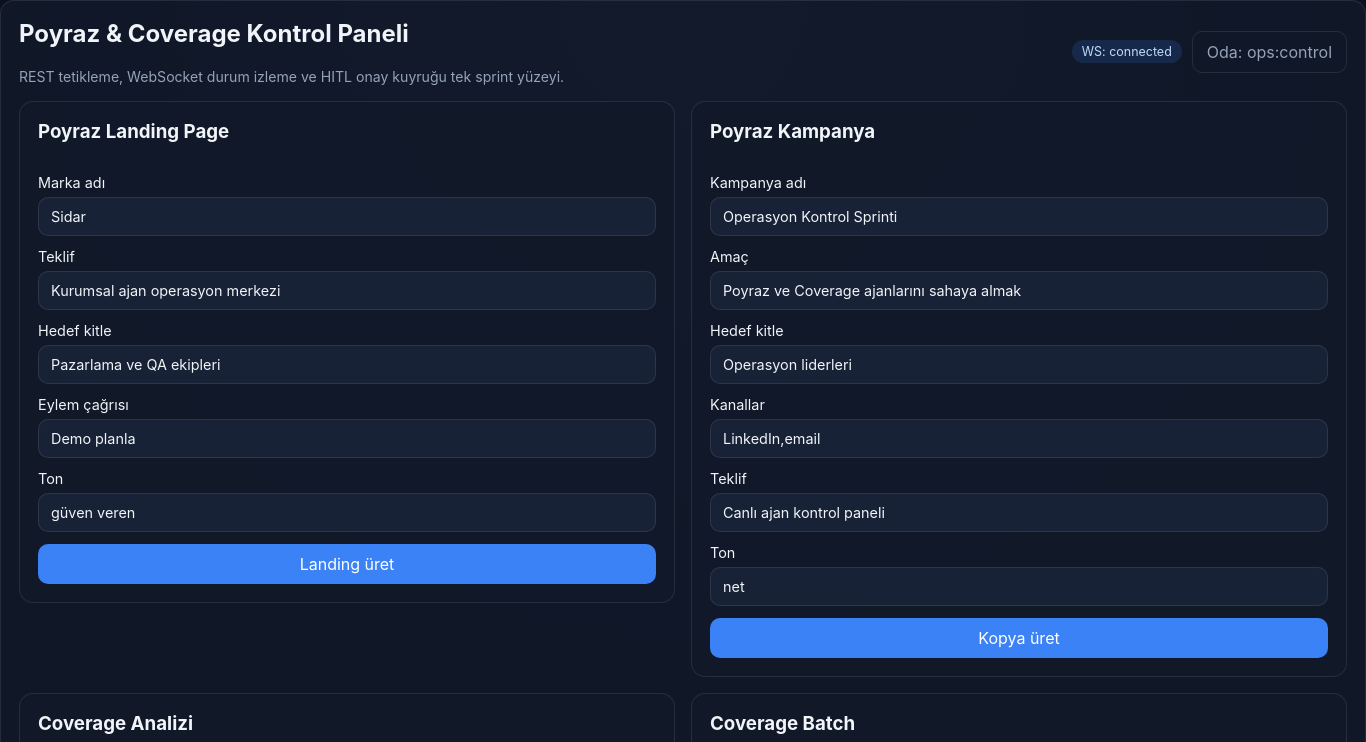
Test case: OperationsQaPanel — REST tetiklemeleri › REST hatasını banner olarak gösterir
Click the button "Landing üret": coordinates (347, 564) [38, 544, 656, 584]
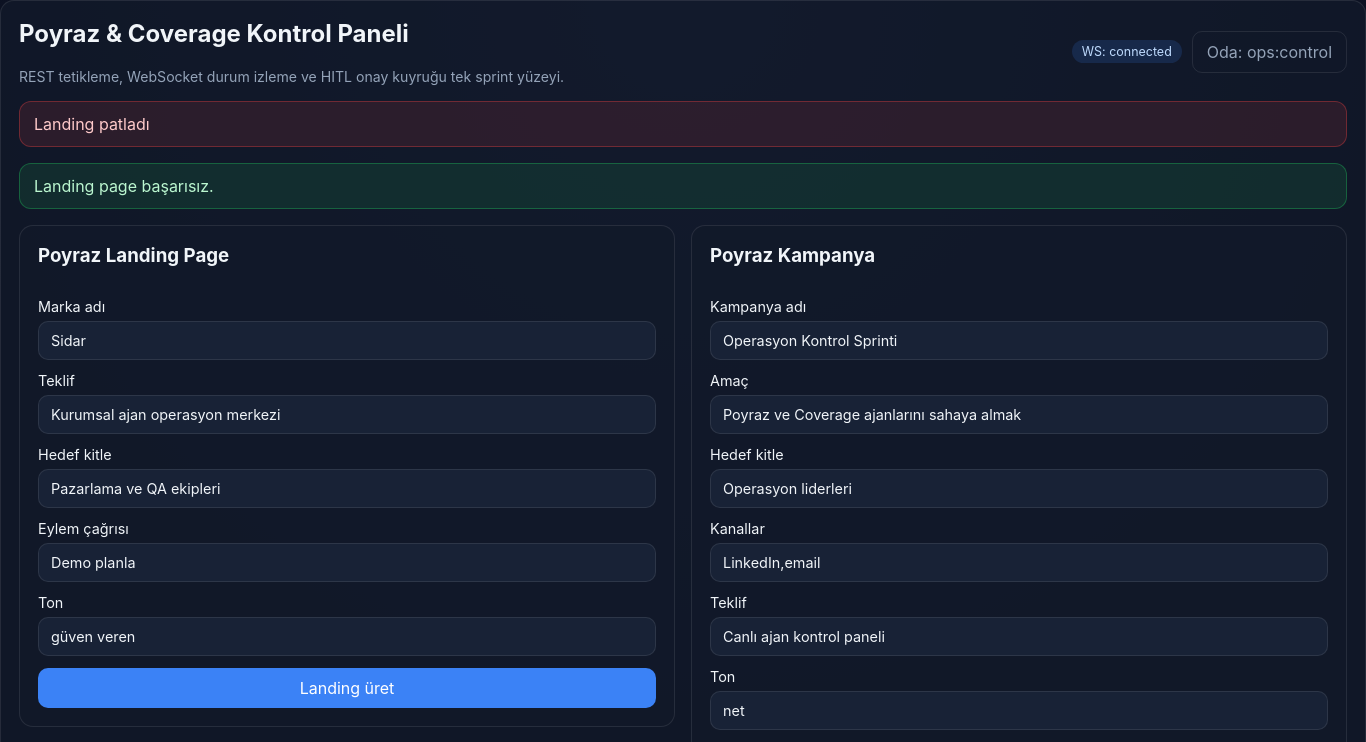
Expected: the text "Landing patladı" is shown, [19, 101, 1347, 147]
Expected: the text "Landing page başarısız." is shown, [19, 163, 1347, 209]
